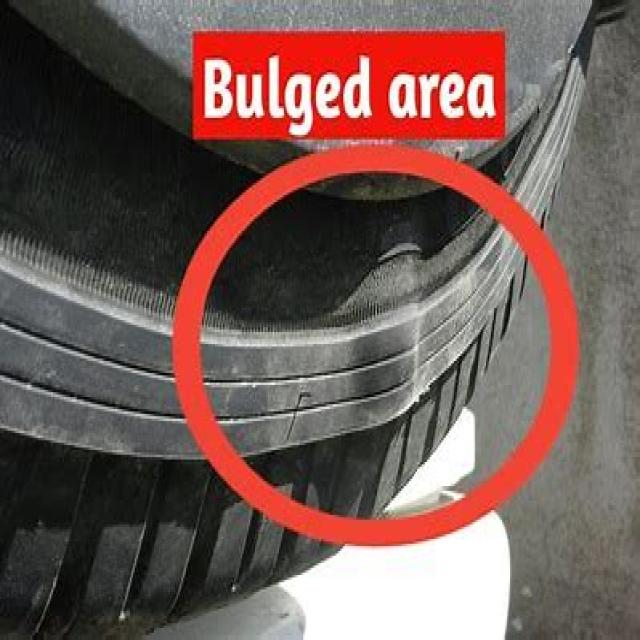Bulge: (342, 236, 430, 434)
